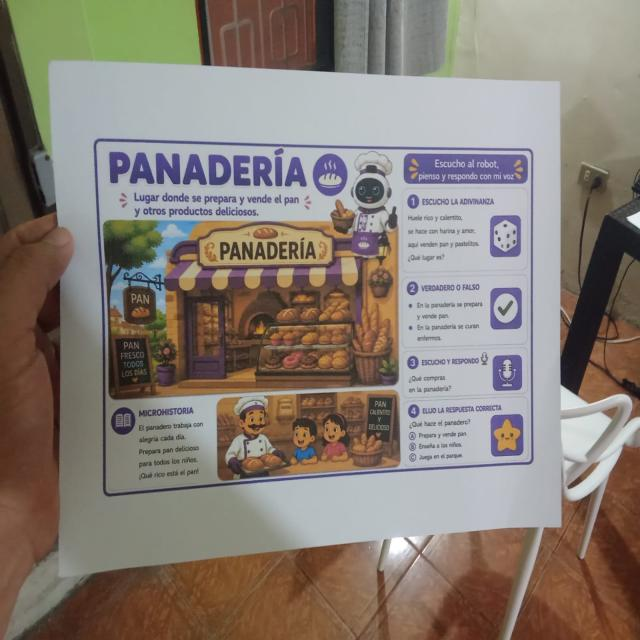panaderia: (89, 132, 538, 501)
